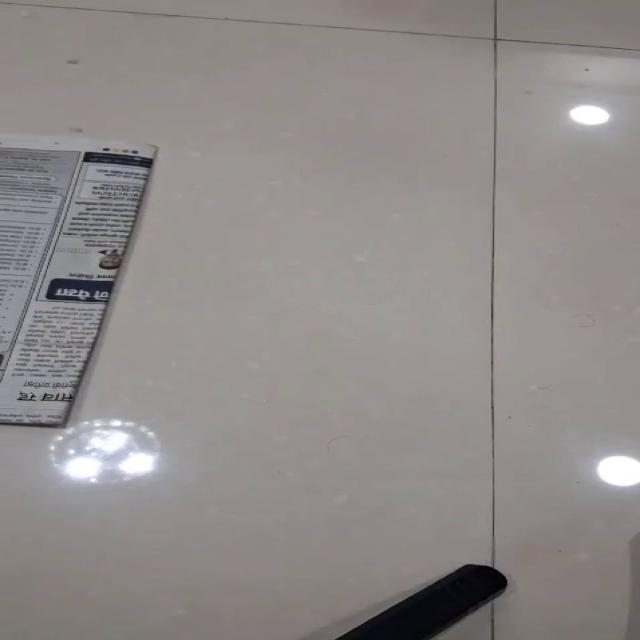paper: (0, 132, 158, 428)
